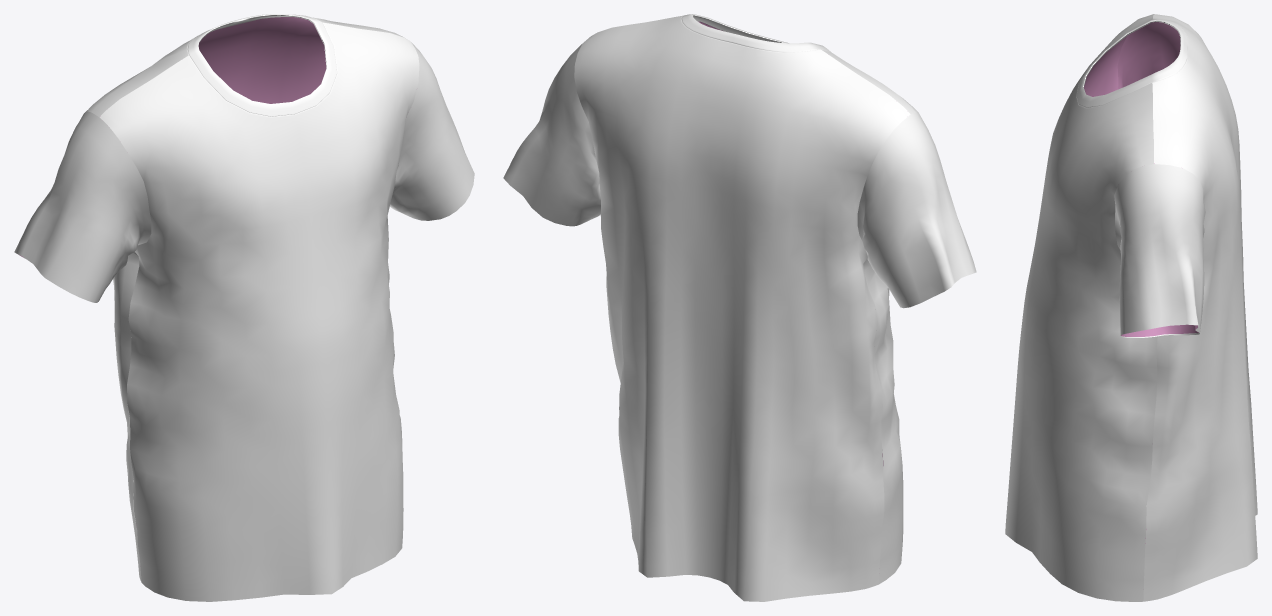
The picture shows the model from 3 angles, left to right: view 1: azimuth 30°, elevation 25°; view 2: azimuth 150°, elevation 25°; view 3: azimuth 270°, elevation 25°; orthographic projection. The views are drawn at different scales.
Visible parts, largest first — view 1: main, reverse; view 2: main; view 3: main, reverse.
Boxes of the visible parts, x1,y1,x2,y2 form: main: (14,14,474,601); reverse: (19,17,326,257); main: (503,14,976,601); main: (1005,14,1257,601); reverse: (1084,22,1198,543).
Size of the model in its own units: 0.8535 by 0.9746 by 0.4431.
